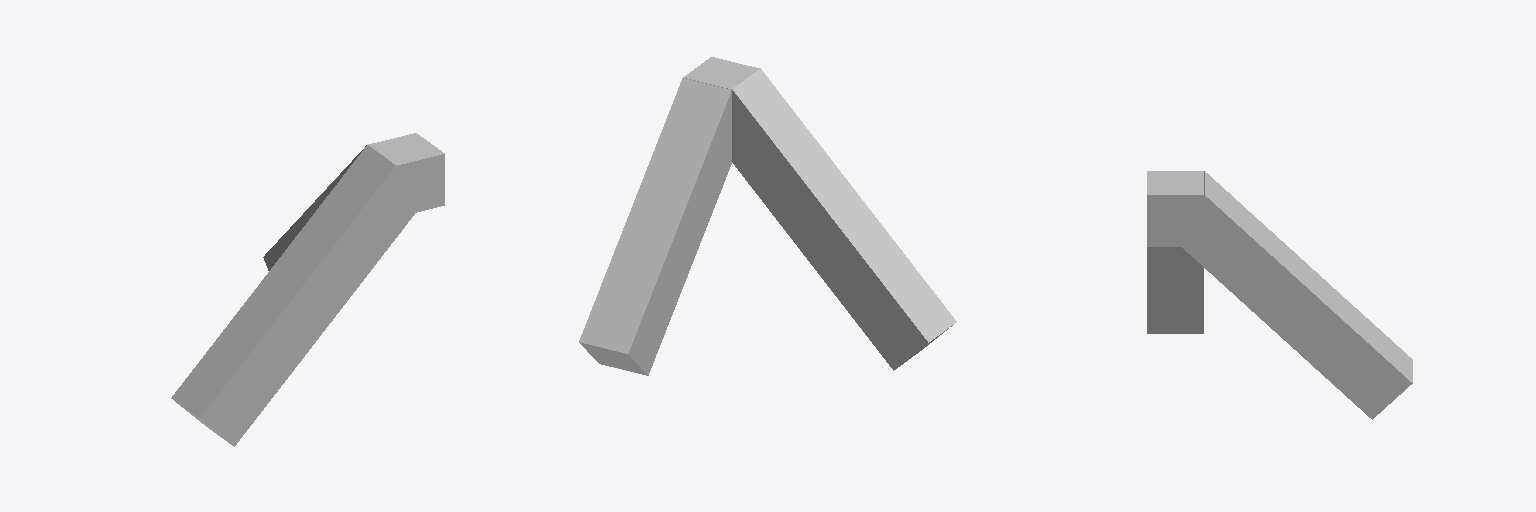
3 renders of one model, left to right at view 1: azimuth 30°, elevation 25°; view 2: azimuth 150°, elevation 25°; view 3: azimuth 270°, elevation 25°, orthographic.
Parts seen in each view (by area): view 1: 1막대_Cube.004; view 2: 1막대_Cube.004; view 3: 1막대_Cube.004.
Part boxes in pixels (x1,y1,x2,y2): 1막대_Cube.004: (171, 133, 444, 446); 1막대_Cube.004: (579, 57, 956, 375); 1막대_Cube.004: (1147, 171, 1412, 419).
Size of the model in its own units: 1.99 by 1.87 by 1.86.